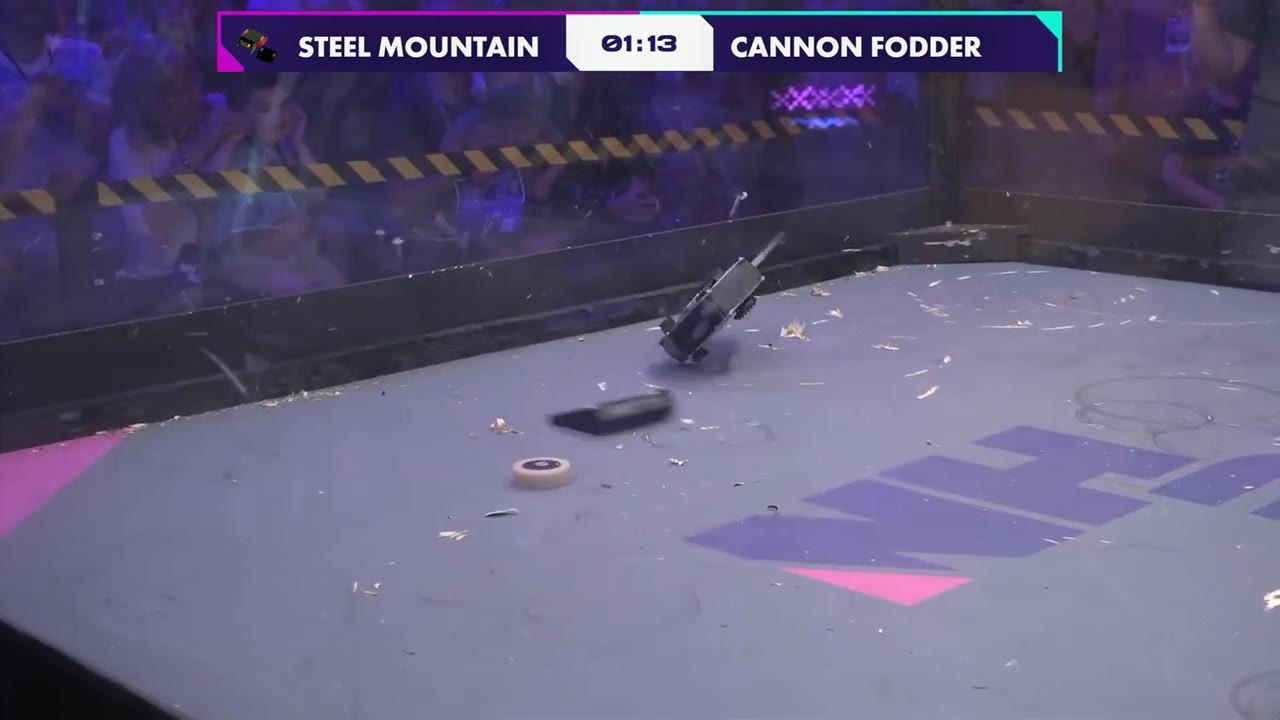combatbot: (656, 255, 767, 370), (550, 385, 675, 437)
wheel: (511, 457, 574, 490)
